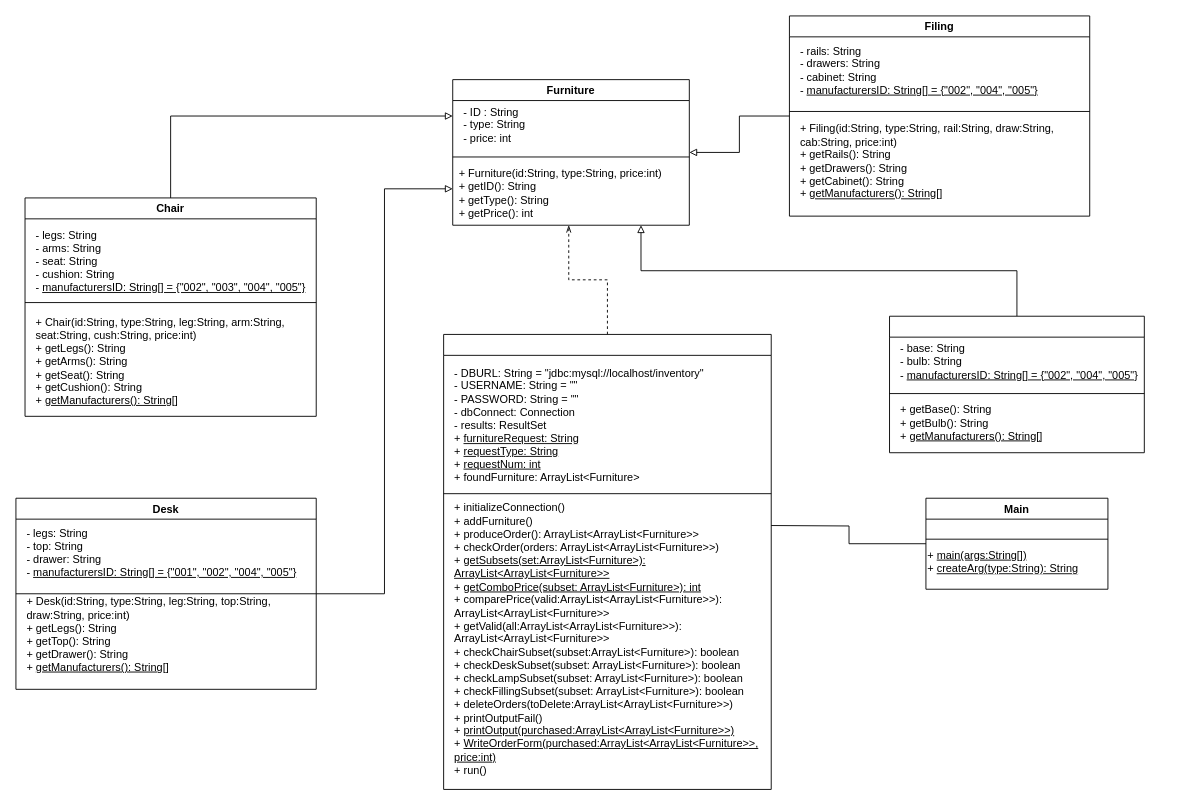
Image size: 1197x805. Some labels were removed from this diagram. The shapes that lost their labels are listed below. From the top down, each one's box as (x1, y1, x2, y2) in pixels, then its label:
(889, 315, 1144, 453): Lamp
(443, 334, 771, 789): FurnitureDataBase
